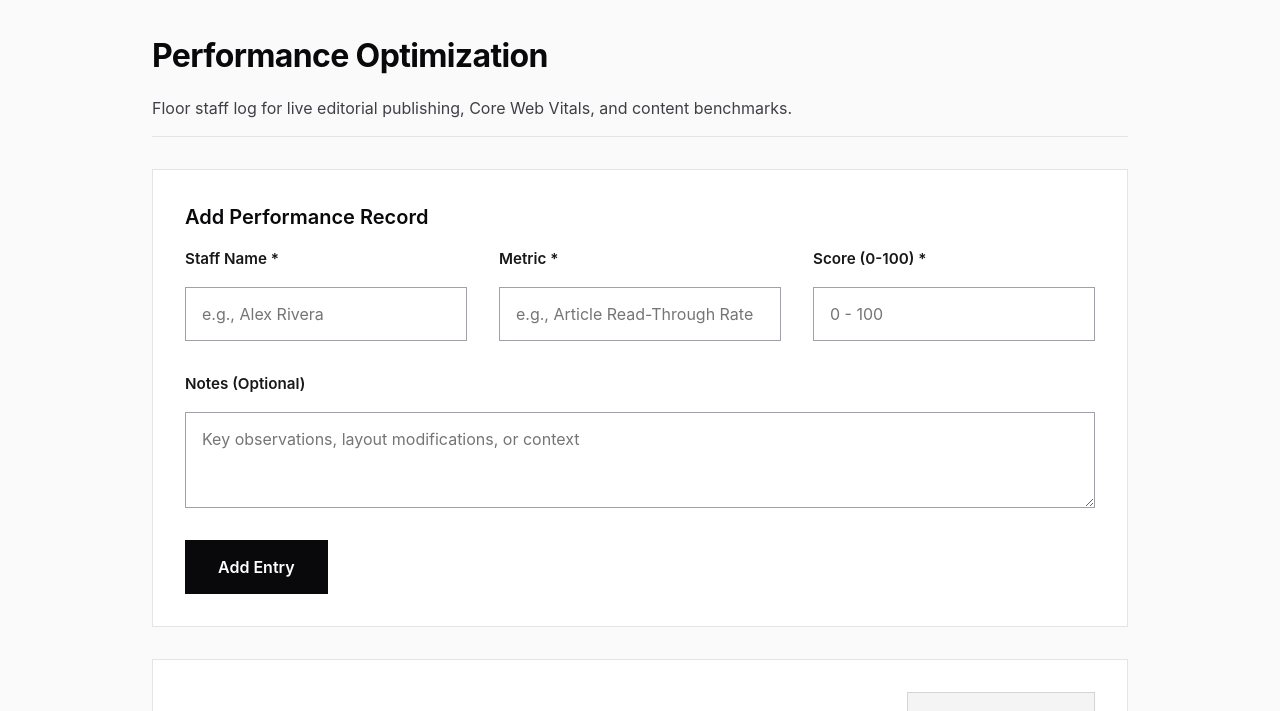
Scenario: PerformanceOptimization Component › 4. Invalid Input › validates name length < 2 characters
Type "J" into the field labelled "Staff Name *" at (326, 314), box [185, 287, 467, 341]
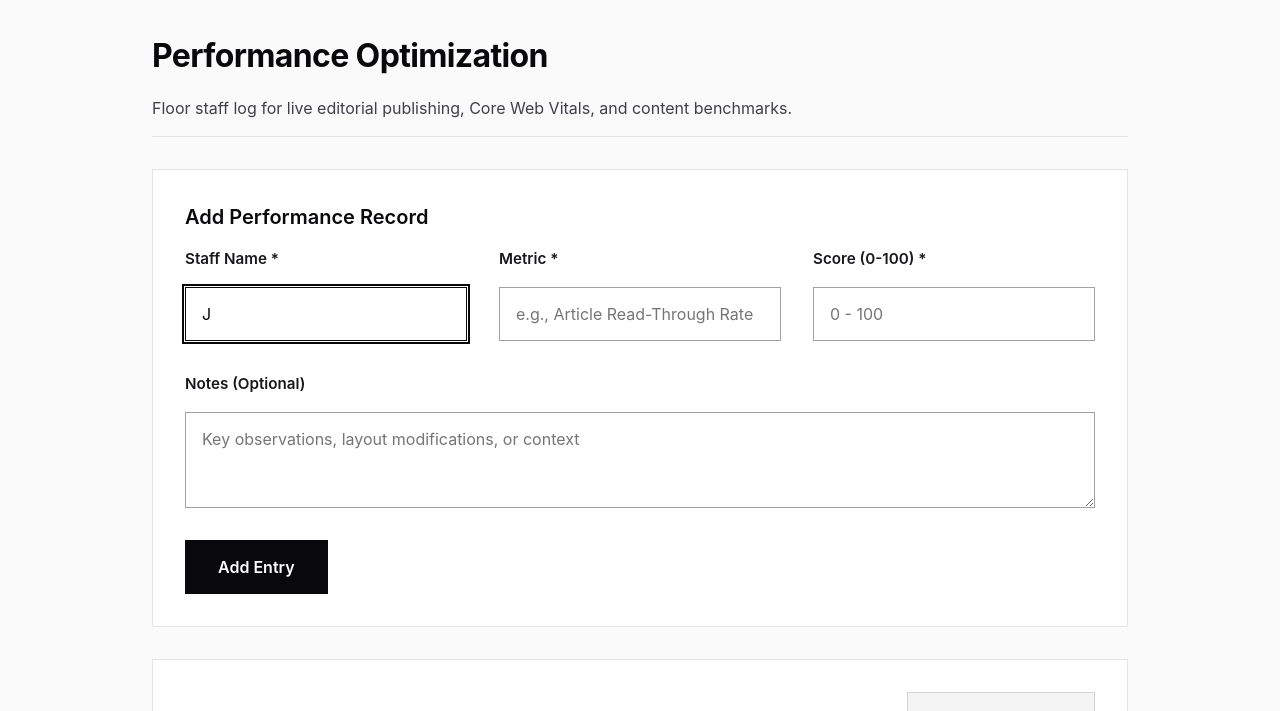
Click the button "Add Entry" at (256, 567), box [185, 540, 328, 594]
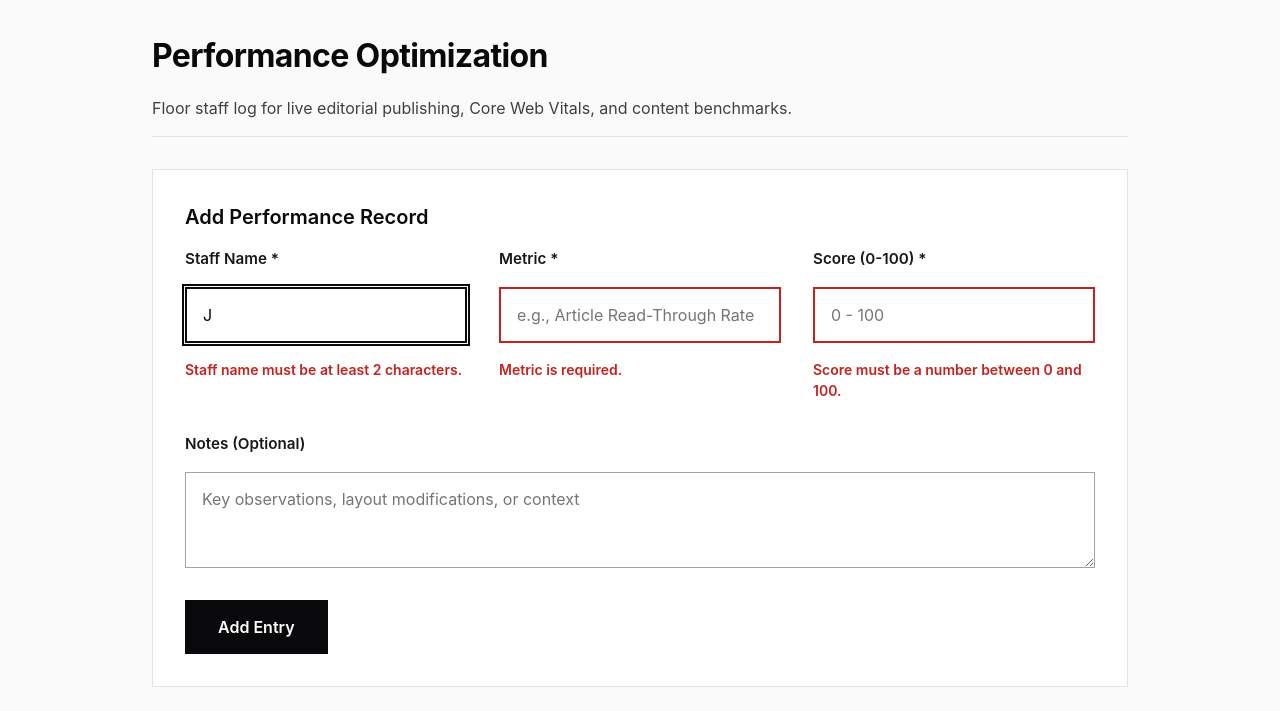
Check: the field labelled "Staff Name *" is marked as invalid, box [185, 287, 467, 343]
